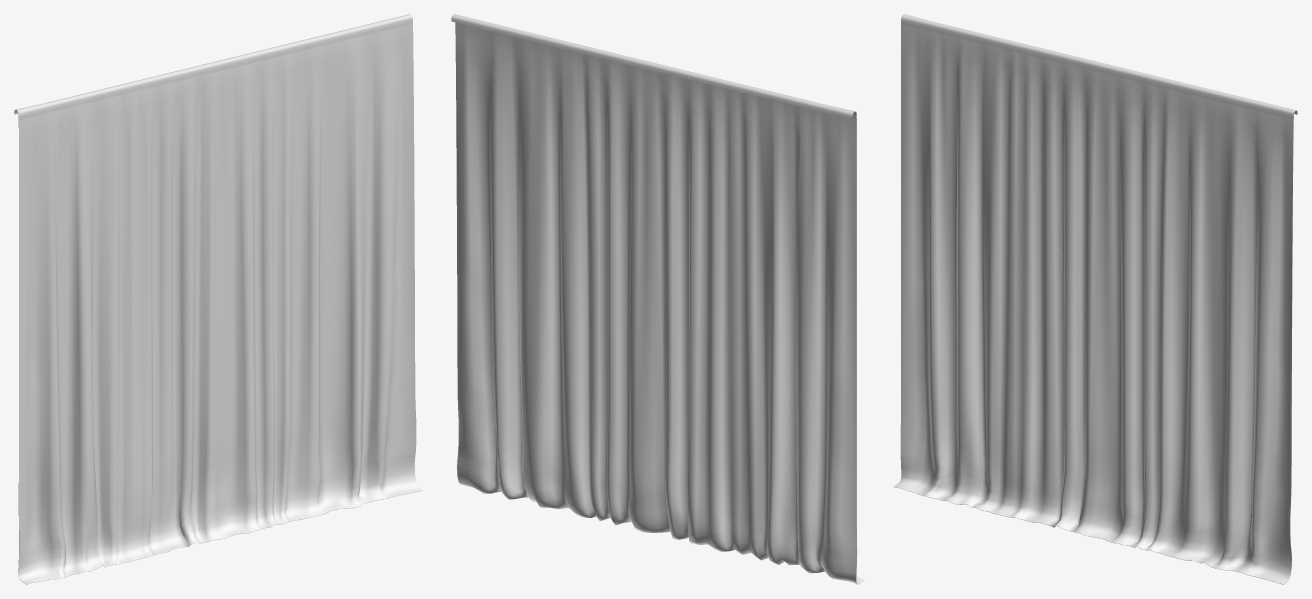
File: PartyBackdrop01_1.FBX
The picture shows the model from 3 angles, left to right: view 1: azimuth 30°, elevation 25°; view 2: azimuth 150°, elevation 25°; view 3: azimuth 330°, elevation 25°; orthographic projection. The views are drawn at different scales.
Parts seen in each view (by area): view 1: PartyBackdrop01_1; view 2: PartyBackdrop01_1; view 3: PartyBackdrop01_1.
Part boxes in pixels (x1,y1,x2,y2): PartyBackdrop01_1: (14,14,422,584); PartyBackdrop01_1: (451,14,864,584); PartyBackdrop01_1: (893,14,1297,584).
Size of what is drawn, in the model's own units: 3 by 3.41 by 0.1989.
